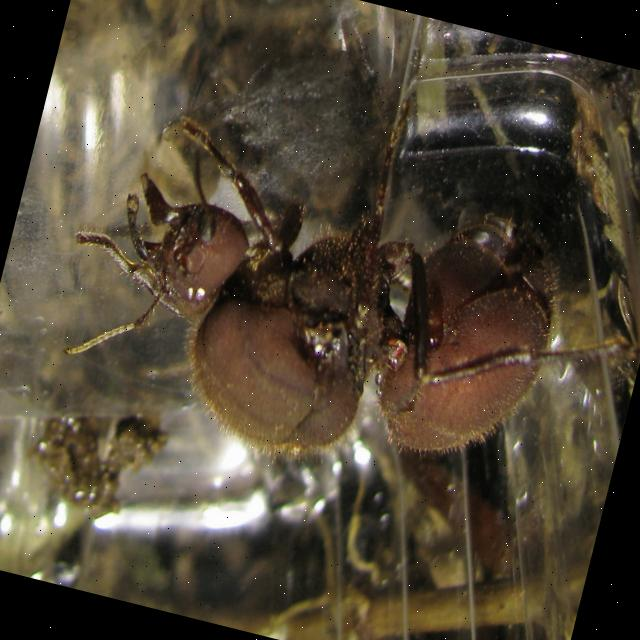Alive-Female-Dealate: (32, 29, 640, 545)
